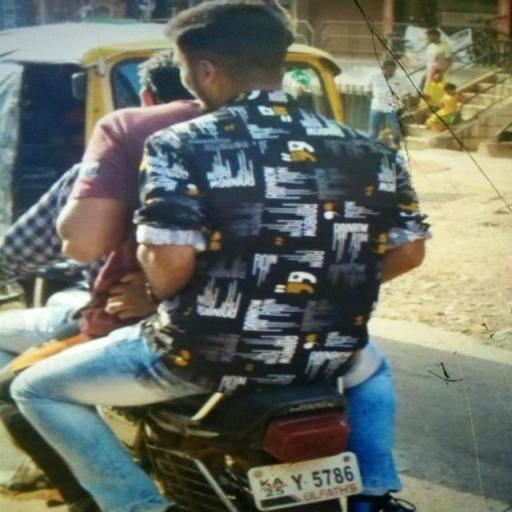tripple riding: (1, 1, 438, 372)
